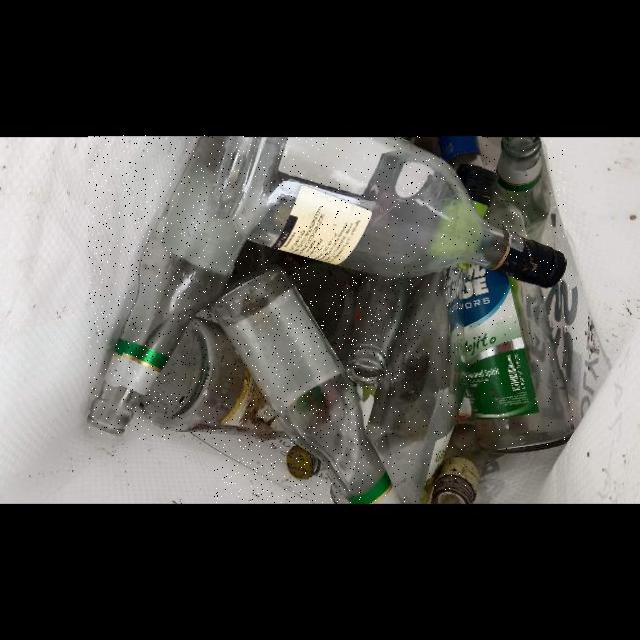glass: (206, 136, 566, 288), (89, 136, 244, 435), (213, 266, 401, 503), (365, 268, 468, 503), (464, 263, 574, 451), (138, 316, 287, 440), (346, 274, 418, 385), (497, 136, 551, 240), (485, 190, 528, 237), (441, 136, 482, 173)
